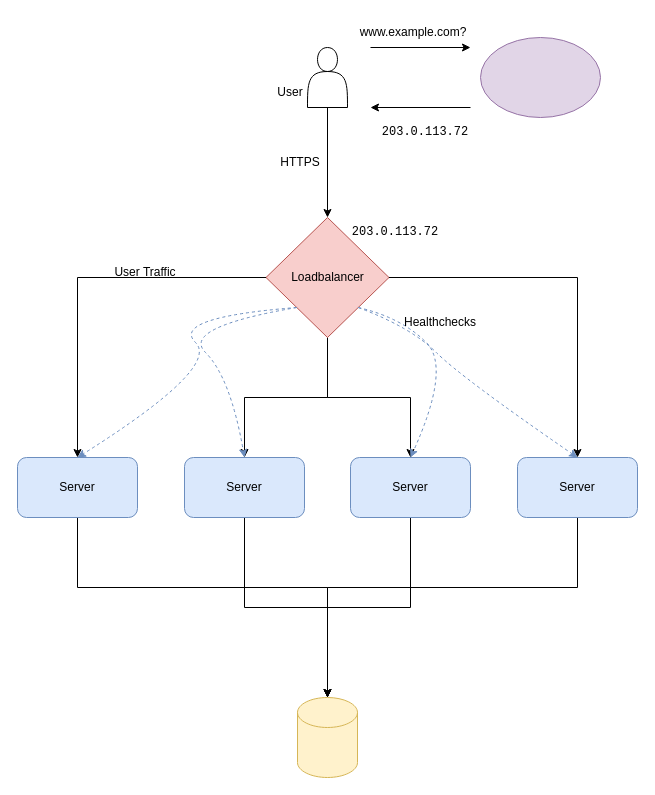
The diagram is 655 pixels wide and 795 high, and some of its shapes have lost their labels. Here are the shapes that lost their labels. From the top down, the centre of each, then its label:
pixel 540 77: DNS
pixel 327 737: DB
